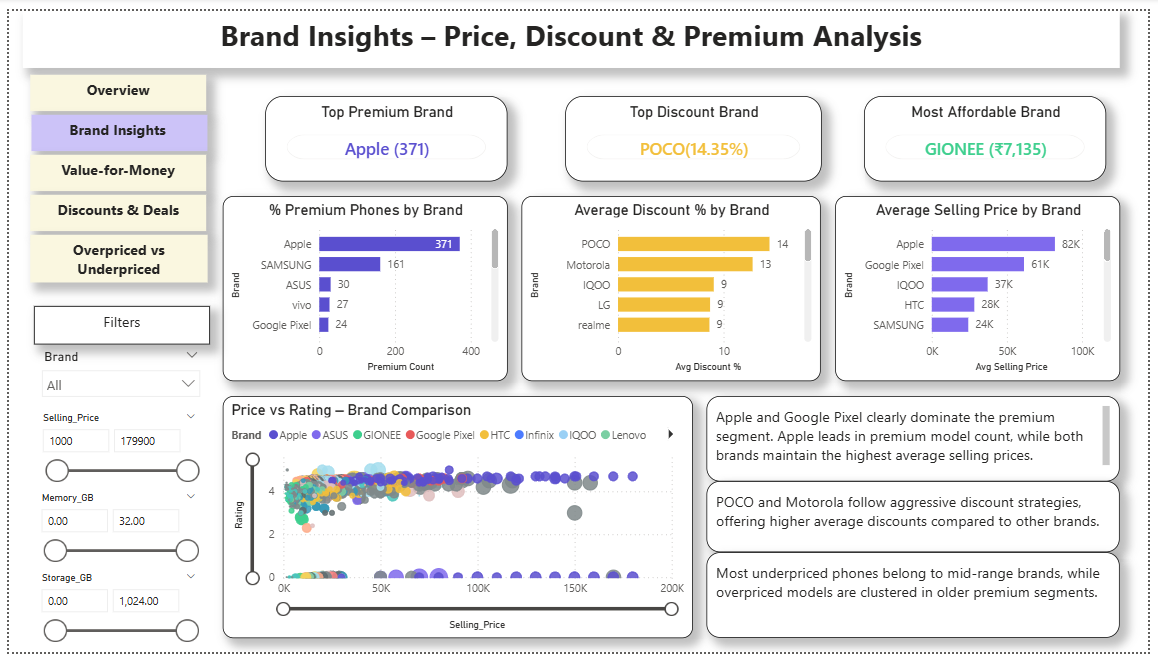

The page's visual inventory and layout, read from the dashboard file:
{"tool":"powerbi","page":{"name":"Brand Insights","canvas":[1280,720],"ordinal":1},"visuals":[{"type":"textbox","box":[16,0,1232,64],"z":0},{"type":"textbox","box":[23.8,71.5,197.7,40.7],"z":1000},{"type":"textbox","box":[25.2,116.4,197.7,40.7],"z":2000},{"type":"textbox","box":[23.8,161.3,197.7,40.7],"z":3000},{"type":"textbox","box":[23.8,206.1,197.7,40.7],"z":4000},{"type":"textbox","box":[23.8,251,199.1,53.3],"z":5000},{"type":"cardVisual","title":"Top Premium Brand","fields":{"Data":["flipkart_mobiles_cleaned.Top Premium Brand"]},"box":[288,96,272,96],"z":6000},{"type":"cardVisual","title":"Top Discount Brand","fields":{"Data":["flipkart_mobiles_cleaned.Highest Discount Brand (Full)"]},"box":[624,96,288,96],"z":7000},{"type":"cardVisual","title":"Most Affordable Brand","fields":{"Data":["flipkart_mobiles_cleaned.Most Affordable Brand (Full)"]},"box":[960,96,272,96],"z":8000},{"type":"clusteredBarChart","title":"% Premium Phones by Brand","fields":{"Category":["flipkart_mobiles_cleaned.Brand"],"Y":["flipkart_mobiles_cleaned.Premium Count"]},"box":[240,208,320,208],"z":9000},{"type":"clusteredBarChart","title":"Average Discount % by Brand","fields":{"Category":["flipkart_mobiles_cleaned.Brand"],"Y":["flipkart_mobiles_cleaned.Avg Discount %"]},"box":[576,208,336,208],"z":10000},{"type":"clusteredBarChart","title":"Average Selling Price by Brand","fields":{"Category":["flipkart_mobiles_cleaned.Brand"],"Y":["flipkart_mobiles_cleaned.Avg Selling Price"]},"box":[928,208,320,208],"z":11000},{"type":"scatterChart","title":"Price vs Rating – Brand Comparison","fields":{"X":["flipkart_mobiles_cleaned.Selling_Price"],"Y":["flipkart_mobiles_cleaned.Rating"],"Series":["flipkart_mobiles_cleaned.Brand"],"Size":["Avg(flipkart_mobiles_cleaned.Memory_GB)"]},"box":[240,432,528,272],"z":12000},{"type":"textbox","box":[784,432,464,96],"z":13000},{"type":"textbox","box":[784,528,464,80],"z":14000},{"type":"slicer","fields":{"Values":["flipkart_mobiles_cleaned.Brand"]},"box":[26.6,374.4,197.7,70.1],"z":15000},{"type":"slicer","fields":{"Values":["flipkart_mobiles_cleaned.Memory_GB"]},"box":[23.8,534.3,197.7,89.7],"z":16000},{"type":"slicer","fields":{"Values":["flipkart_mobiles_cleaned.Storage_GB"]},"box":[23.8,624,197.7,88.3],"z":17000},{"type":"slicer","fields":{"Values":["flipkart_mobiles_cleaned.Selling_Price"]},"box":[25.2,444.5,196.3,89.7],"z":18000},{"type":"textbox","box":[28,330.9,197.7,43.5],"z":19000},{"type":"textbox","box":[784,608,464,96],"z":20000}]}

Visuals, with their boxes in screenshot pixels (x1, y1, x2, y2), scaled from the page's 1280x720 canvas onto the 1158x662 screenshot:
textbox: [x1=14, y1=0, x2=1129, y2=59]
textbox: [x1=22, y1=66, x2=200, y2=103]
textbox: [x1=23, y1=107, x2=202, y2=144]
textbox: [x1=22, y1=148, x2=200, y2=186]
textbox: [x1=22, y1=189, x2=200, y2=227]
textbox: [x1=22, y1=231, x2=202, y2=280]
"Top Premium Brand" cardVisual: [x1=261, y1=88, x2=507, y2=177]
"Top Discount Brand" cardVisual: [x1=565, y1=88, x2=825, y2=177]
"Most Affordable Brand" cardVisual: [x1=868, y1=88, x2=1115, y2=177]
"% Premium Phones by Brand" clusteredBarChart: [x1=217, y1=191, x2=507, y2=382]
"Average Discount % by Brand" clusteredBarChart: [x1=521, y1=191, x2=825, y2=382]
"Average Selling Price by Brand" clusteredBarChart: [x1=840, y1=191, x2=1129, y2=382]
"Price vs Rating – Brand Comparison" scatterChart: [x1=217, y1=397, x2=695, y2=647]
textbox: [x1=709, y1=397, x2=1129, y2=485]
textbox: [x1=709, y1=485, x2=1129, y2=559]
slicer - flipkart_mobiles_cleaned.Brand: [x1=24, y1=344, x2=203, y2=409]
slicer - flipkart_mobiles_cleaned.Memory_GB: [x1=22, y1=491, x2=200, y2=574]
slicer - flipkart_mobiles_cleaned.Storage_GB: [x1=22, y1=574, x2=200, y2=655]
slicer - flipkart_mobiles_cleaned.Selling_Price: [x1=23, y1=409, x2=200, y2=491]
textbox: [x1=25, y1=304, x2=204, y2=344]
textbox: [x1=709, y1=559, x2=1129, y2=647]
